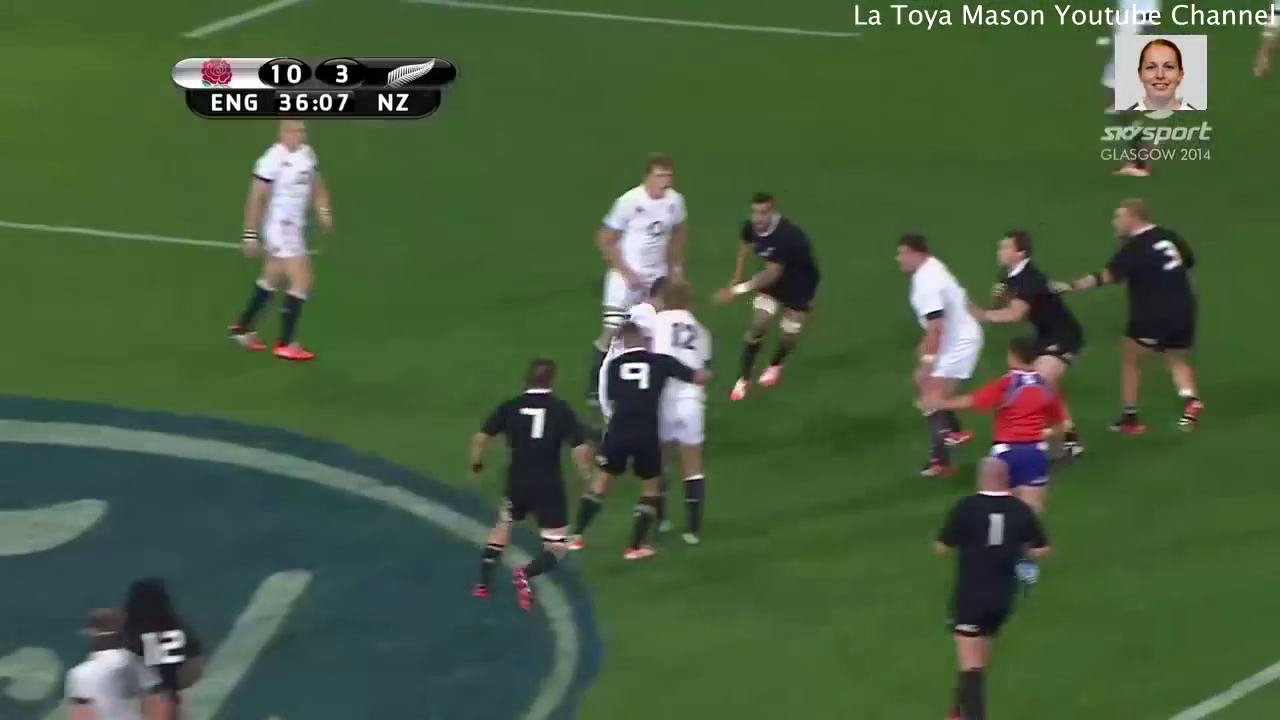maul: (565, 268, 728, 544)
player: (455, 353, 596, 621), (1057, 200, 1209, 440), (921, 456, 1057, 720), (917, 326, 1073, 507), (222, 120, 336, 362), (710, 190, 828, 409), (892, 236, 982, 477), (584, 328, 663, 567), (969, 228, 1084, 388), (647, 288, 717, 536), (589, 149, 694, 309), (56, 608, 169, 720), (113, 570, 194, 676)
